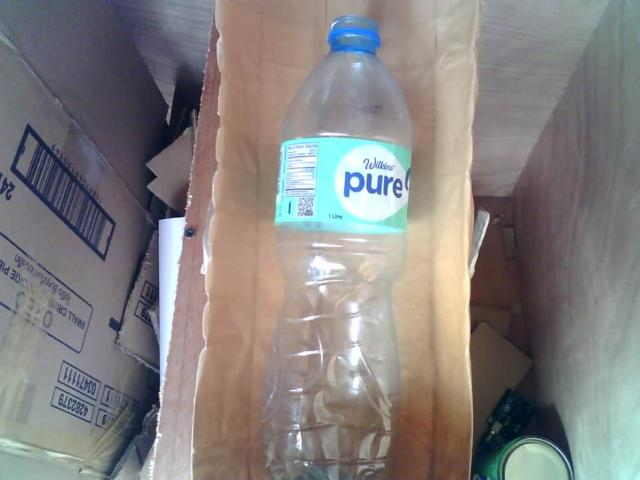large_bottle: (249, 11, 429, 480)
